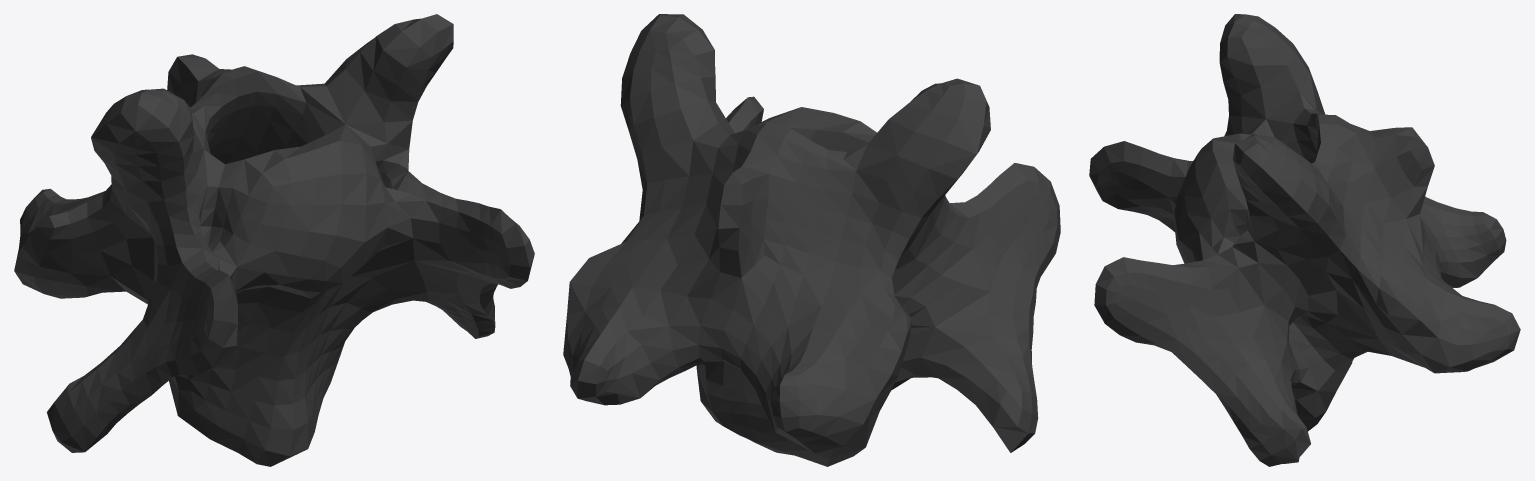
3 views of the same model, side by side, from view 1: azimuth 30°, elevation 25°; view 2: azimuth 150°, elevation 25°; view 3: azimuth 270°, elevation 25° (orthographic). The views are drawn at different scales.
Parts seen in each view (by area): view 1: C4; view 2: C4; view 3: C4.
Boxes of the visible parts, <box> form: C4: <box>14,14,534,466</box>; C4: <box>563,14,1060,466</box>; C4: <box>1089,14,1520,466</box>.
Bounding box in the file's own units: 2.86 × 2.53 × 2.74.
Materials: 1 (1 with a texture image).
